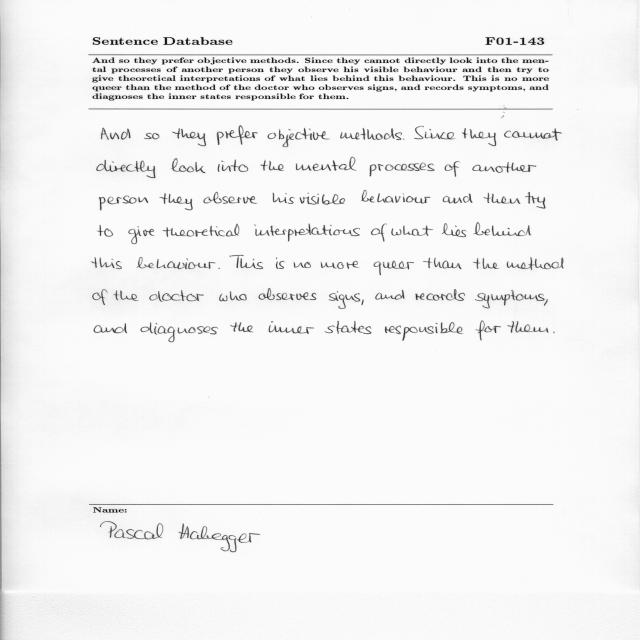word: (254, 224, 360, 242), (141, 323, 219, 343), (385, 322, 463, 341), (475, 290, 545, 308), (268, 128, 330, 147), (97, 160, 156, 178), (163, 224, 239, 237), (362, 190, 431, 204), (137, 257, 215, 269), (370, 163, 435, 177), (296, 157, 356, 171), (217, 126, 258, 145), (340, 128, 404, 140), (504, 128, 562, 141), (473, 223, 531, 236), (507, 257, 564, 270), (100, 196, 149, 211), (472, 162, 536, 173), (259, 289, 317, 301), (149, 290, 204, 302), (204, 192, 257, 204), (172, 128, 206, 146), (462, 128, 496, 146), (325, 321, 372, 334), (415, 289, 465, 301), (269, 321, 314, 334), (160, 193, 193, 210), (374, 261, 414, 275), (329, 291, 360, 309), (300, 193, 345, 205), (172, 158, 206, 173), (475, 321, 501, 340), (507, 321, 548, 333), (129, 227, 155, 245), (391, 225, 433, 236), (230, 255, 263, 269), (423, 258, 462, 269), (484, 193, 521, 204), (91, 257, 122, 269), (218, 160, 248, 172), (442, 223, 467, 237), (102, 128, 131, 140), (525, 192, 546, 208), (94, 324, 127, 334), (425, 129, 456, 139), (321, 261, 359, 269), (443, 194, 473, 204), (375, 290, 405, 300), (371, 224, 387, 242), (473, 258, 499, 269), (219, 292, 247, 302), (260, 160, 284, 171), (113, 291, 138, 301), (273, 193, 295, 204), (445, 161, 460, 177), (93, 289, 108, 305), (230, 322, 254, 332), (97, 225, 113, 237), (414, 126, 424, 139), (276, 257, 285, 269), (294, 262, 311, 268), (144, 133, 160, 139), (544, 299, 548, 306), (361, 300, 364, 306), (218, 267, 220, 269), (553, 332, 555, 334)
